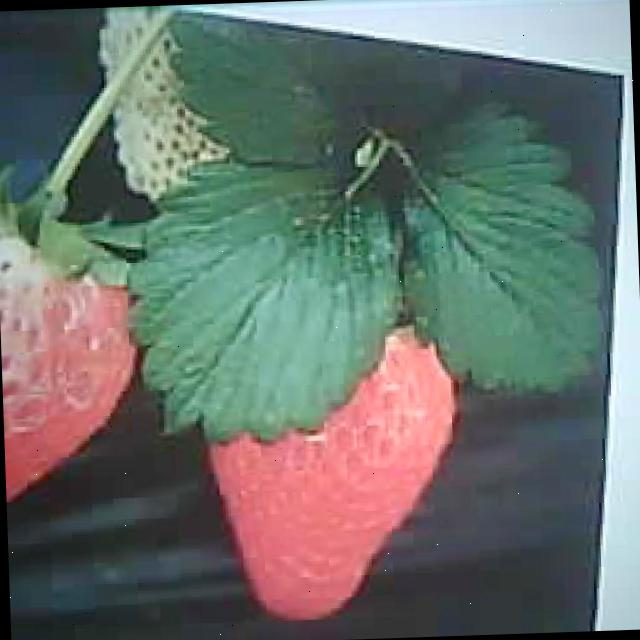strawberry: (200, 330, 454, 624), (0, 222, 152, 503)
